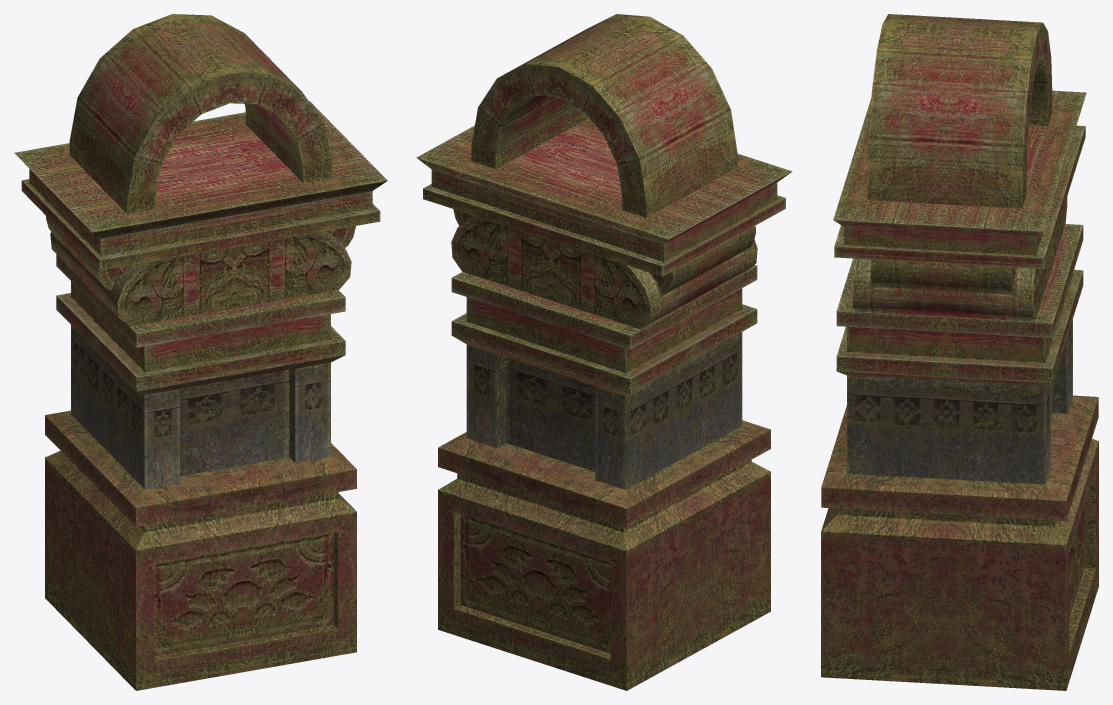
The model's file is 2st_pillar_002.fbx.
3 views of the same model, side by side, from view 1: azimuth 30°, elevation 25°; view 2: azimuth 150°, elevation 25°; view 3: azimuth 270°, elevation 25° (orthographic). The views are drawn at different scales.
Visible parts, largest first — view 1: 4st_pillar_002; view 2: 4st_pillar_002; view 3: 4st_pillar_002.
Part boxes in pixels (box(x1,y1,x2,y2)): 4st_pillar_002: box(14, 14, 387, 690); 4st_pillar_002: box(416, 14, 792, 690); 4st_pillar_002: box(821, 14, 1098, 690).
Bounding box in the file's own units: 5.23 × 9.77 × 4.07.
